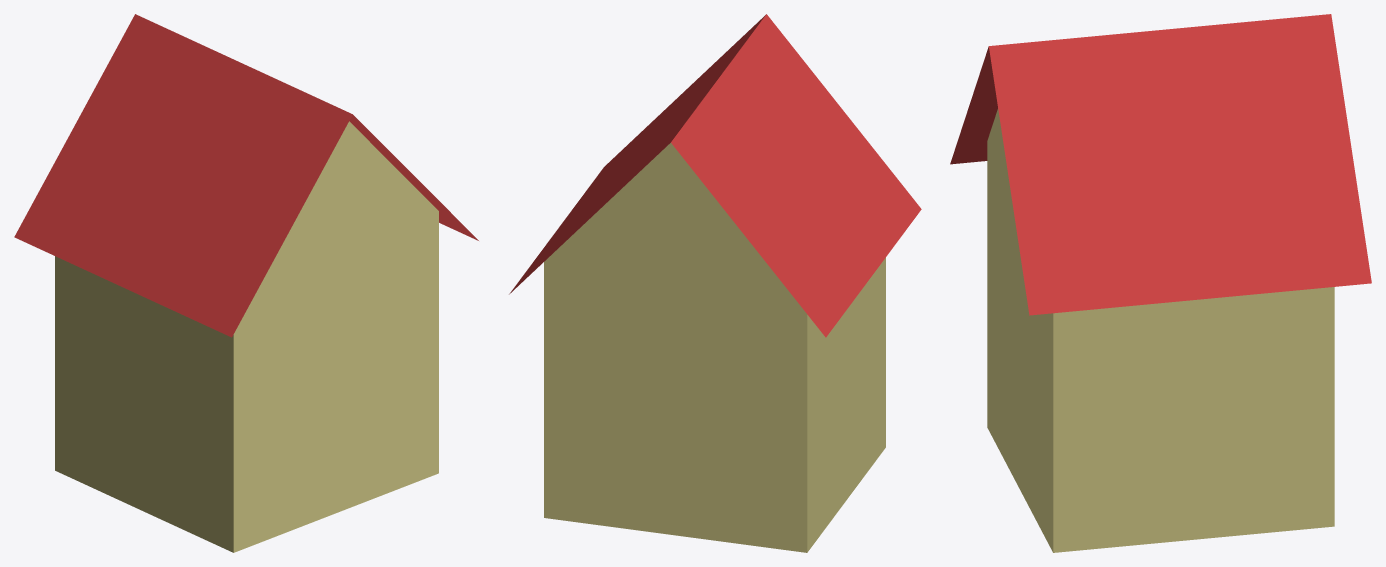
3 renders of one model, left to right at view 1: azimuth 30°, elevation 25°; view 2: azimuth 150°, elevation 25°; view 3: azimuth 270°, elevation 25°, orthographic. The views are drawn at different scales.
Visible parts, largest first — view 1: group_5, group_3, group_4; view 2: group_5, group_3, group_4; view 3: group_3, group_5, group_4.
Part boxes in pixels (box(x1,y1,x2,y2)): group_5: box(55, 121, 438, 552); group_3: box(14, 15, 363, 336); group_4: box(15, 14, 478, 337); group_5: box(544, 143, 885, 552); group_3: box(509, 14, 915, 337); group_4: box(671, 15, 921, 336); group_3: box(950, 14, 1371, 315); group_5: box(987, 108, 1334, 552); group_4: box(989, 43, 1189, 310).
Bounding box in the file's own units: 13.84 × 13.47 × 15.68.
